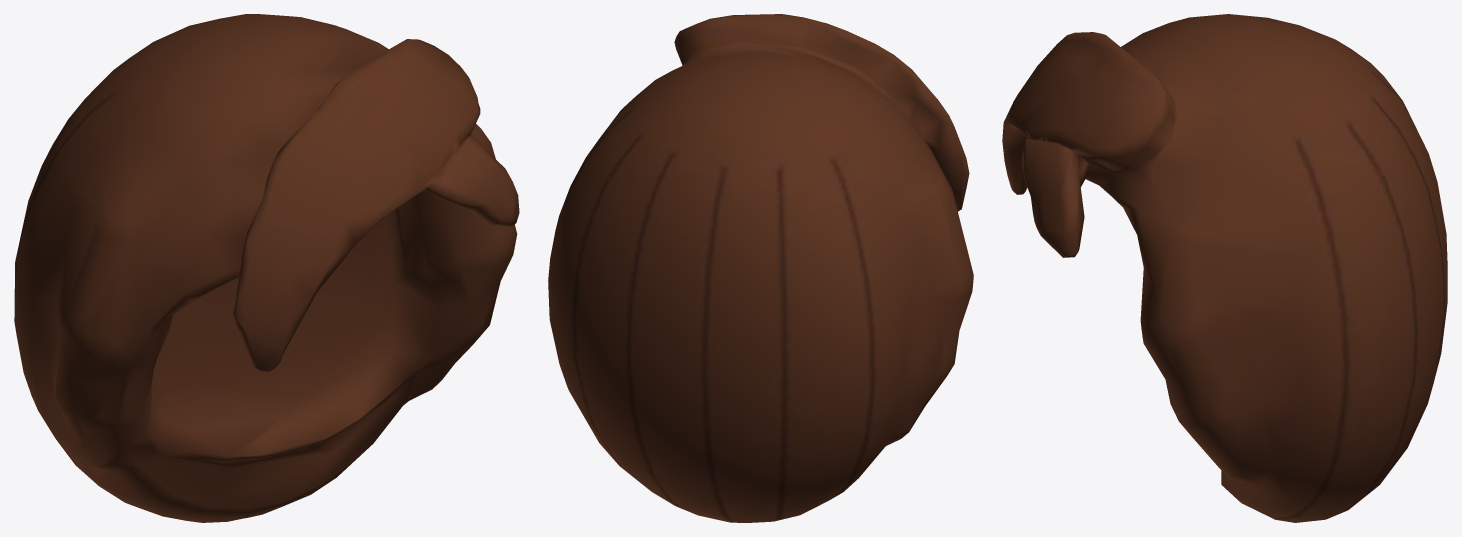
Rendered from avatar-hair-long.glb.
3 renders of one model, left to right at view 1: azimuth 30°, elevation 25°; view 2: azimuth 150°, elevation 25°; view 3: azimuth 270°, elevation 25°, orthographic. The views are drawn at different scales.
Visible parts, largest first — view 1: hair; view 2: hair; view 3: hair.
Boxes of the visible parts, x1,y1,x2,y2 form: hair: [14, 14, 519, 522]; hair: [548, 14, 973, 522]; hair: [1002, 14, 1447, 522].
Size of the model in its own units: 0.4843 by 0.5321 by 0.4516.
Materials: 1 (1 with a texture image).
